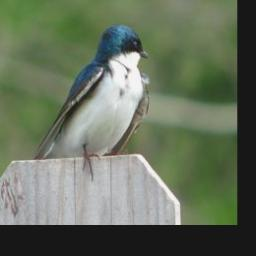Swallow: (32, 21, 152, 182)
